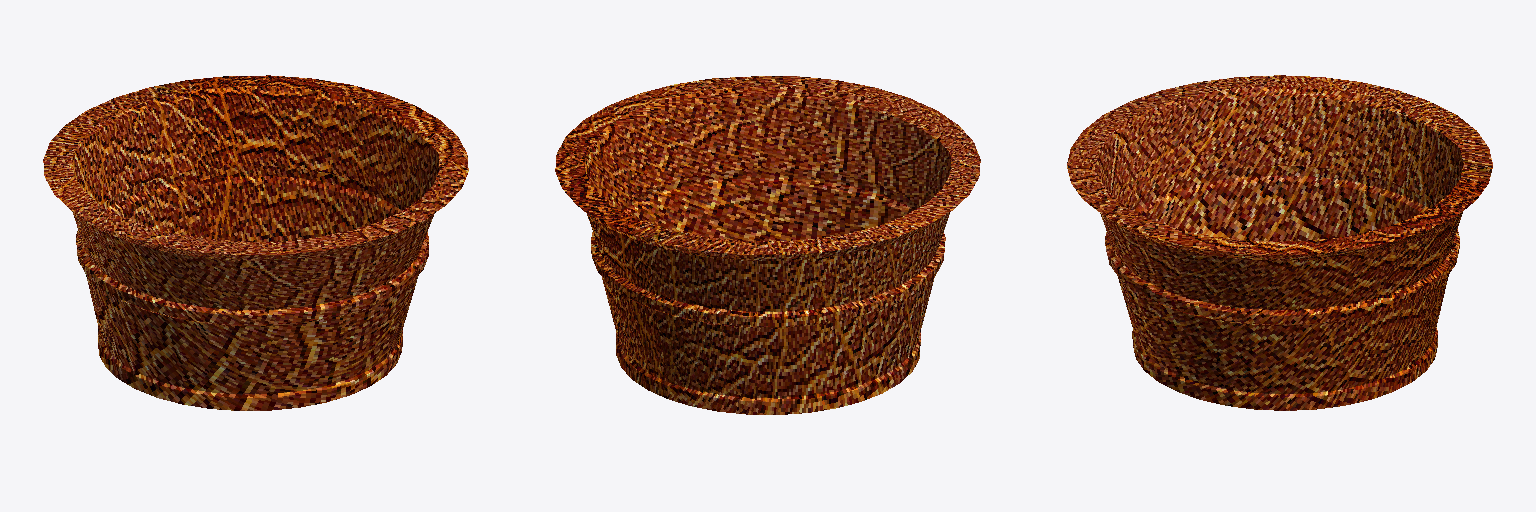
3 renders of one model, left to right at view 1: azimuth 30°, elevation 25°; view 2: azimuth 150°, elevation 25°; view 3: azimuth 270°, elevation 25°, orthographic.
Parts seen in each view (by area): view 1: Circle; view 2: Circle; view 3: Circle.
Boxes of the visible parts, box(x1,y1,x2,y2) form: Circle: box(43, 75, 468, 410); Circle: box(555, 76, 980, 414); Circle: box(1067, 75, 1492, 410).
Size of the model in its own units: 3.65 by 1.74 by 3.65.
Materials: 1 (1 with a texture image).